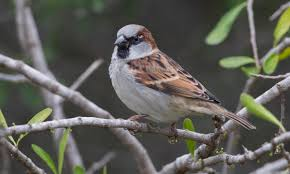hsparrow: (106, 22, 259, 142)
